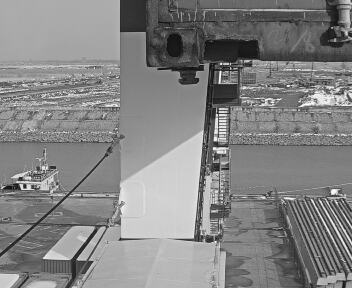twist_lock_1: (163, 62, 209, 93)
